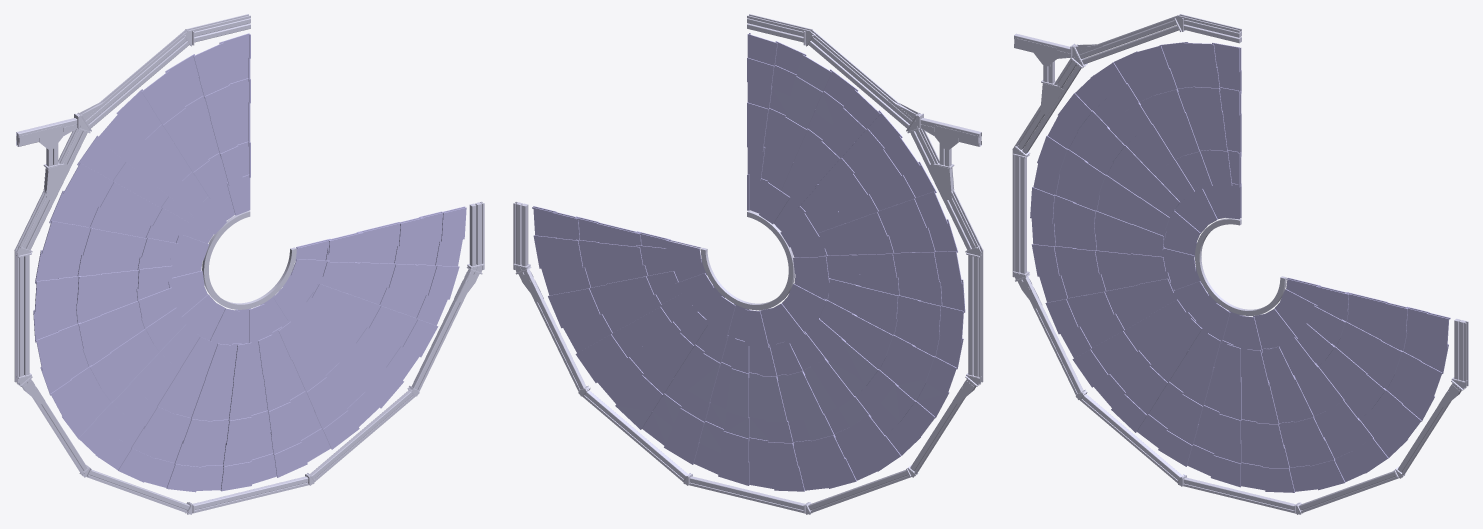
Rendered from TGC3-SideA-cut4.glb.
3 renders of one model, left to right at view 1: azimuth 30°, elevation 25°; view 2: azimuth 150°, elevation 25°; view 3: azimuth 330°, elevation 25°, orthographic. The views are drawn at different scales.
Parts seen in each view (by area): view 1: S__04499968, S__2BCD1758; view 2: S__04499968, S__2BCD1758; view 3: S__04499968, S__2BCD1758.
Boxes of the visible parts, x1,y1,x2,y2 form: S__04499968: (33,33,466,492); S__2BCD1758: (14,14,484,514); S__04499968: (532,33,965,491); S__2BCD1758: (513,14,983,514); S__04499968: (1030,42,1450,492); S__2BCD1758: (1012,14,1468,514).
Size of the model in its own units: 25.89 by 25.65 by 0.4084.
